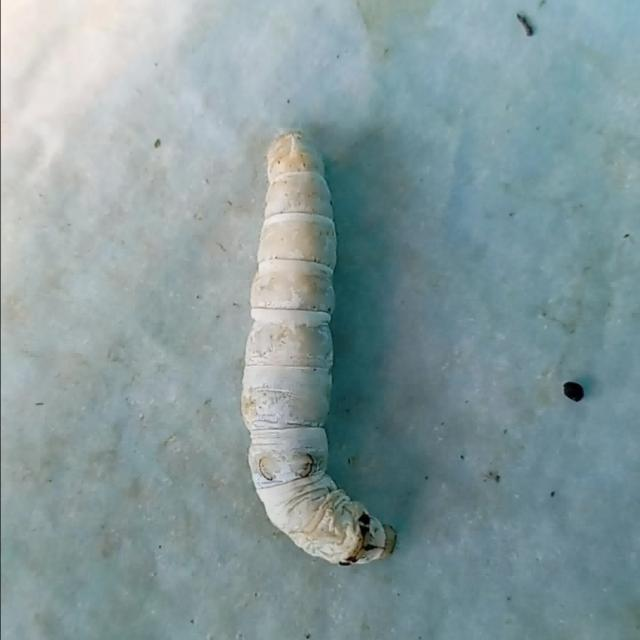Grasserie: (218, 102, 435, 591)
